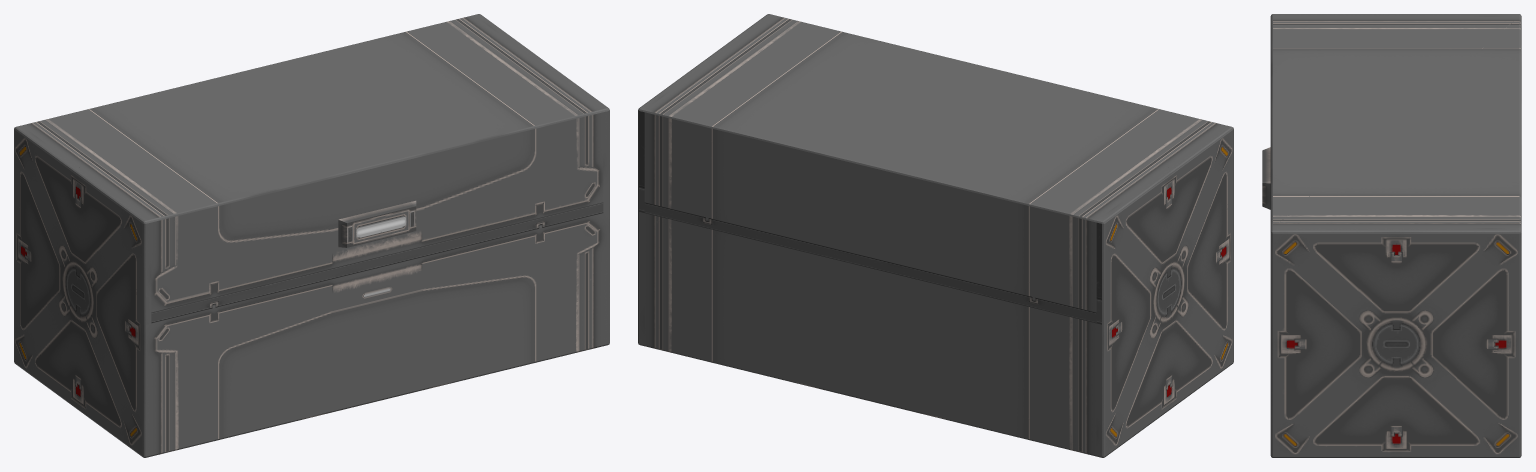
File: chest.glb
The picture shows the model from 3 angles, left to right: view 1: azimuth 30°, elevation 25°; view 2: azimuth 150°, elevation 25°; view 3: azimuth 270°, elevation 25°; orthographic projection. The views are drawn at different scales.
Visible parts, largest first — view 1: Prop_Chest; view 2: Prop_Chest; view 3: Prop_Chest.
Boxes of the visible parts, x1,y1,x2,y2 form: Prop_Chest: (14, 14, 609, 457); Prop_Chest: (638, 14, 1233, 457); Prop_Chest: (1262, 14, 1521, 457).
Bounding box in the file's own units: 1.5 × 0.729 × 0.753.
2 materials, 2 textured.
